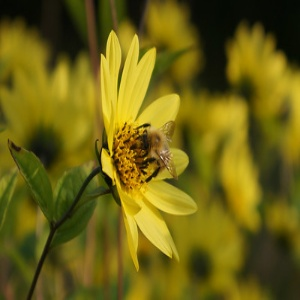bee: (134, 120, 181, 191)
